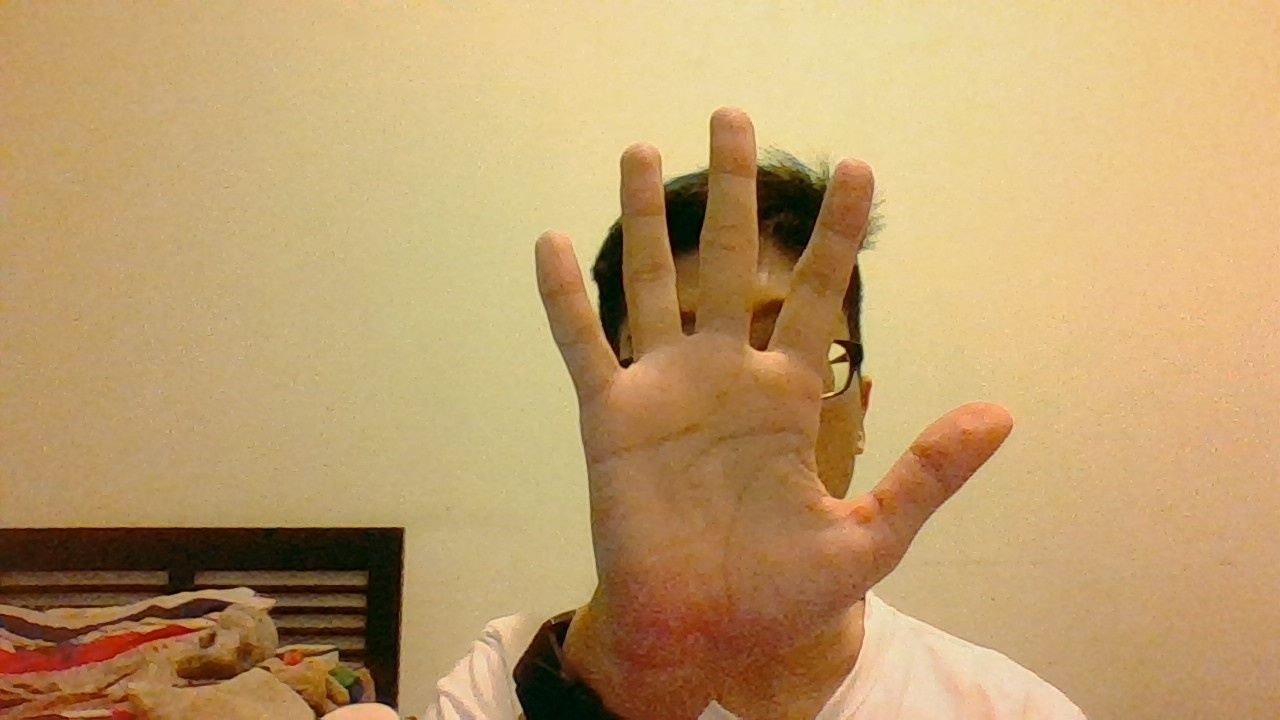Hello: (531, 104, 1015, 651)
